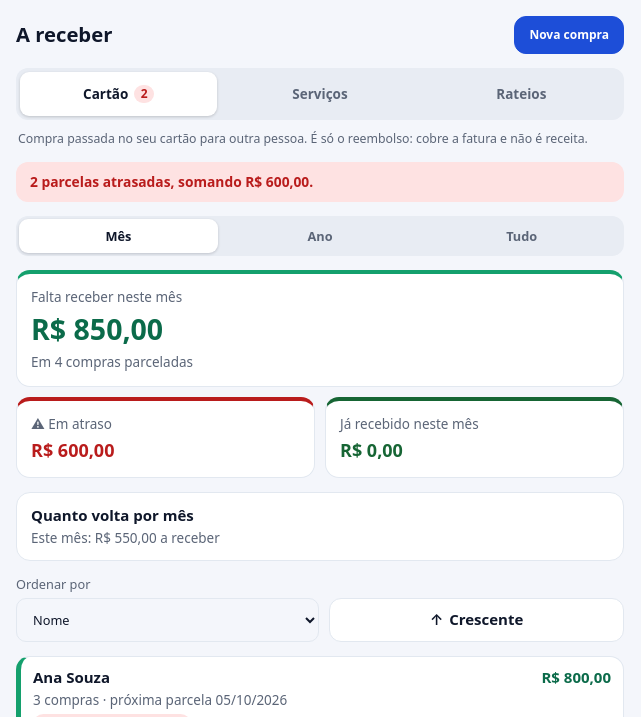
Test: Ordenação em A receber › abre por nome; a situação (atrasados primeiro) não tem botão de sentido
The width and height of the screenshot is (641, 717).
Select "Situação (atrasados primeiro)" in the dropdown labelled "Ordenar por": point(168, 620) [16,598,319,642]
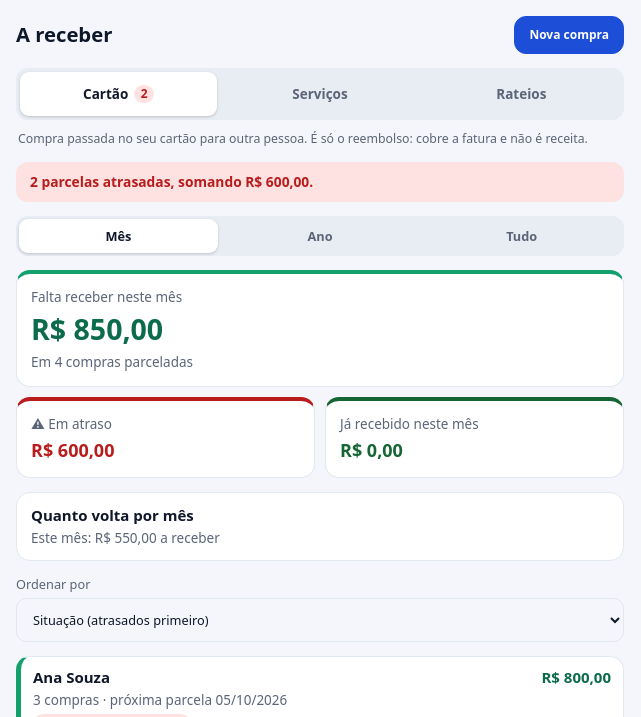
Result: the button "↑ Crescente" is gone
